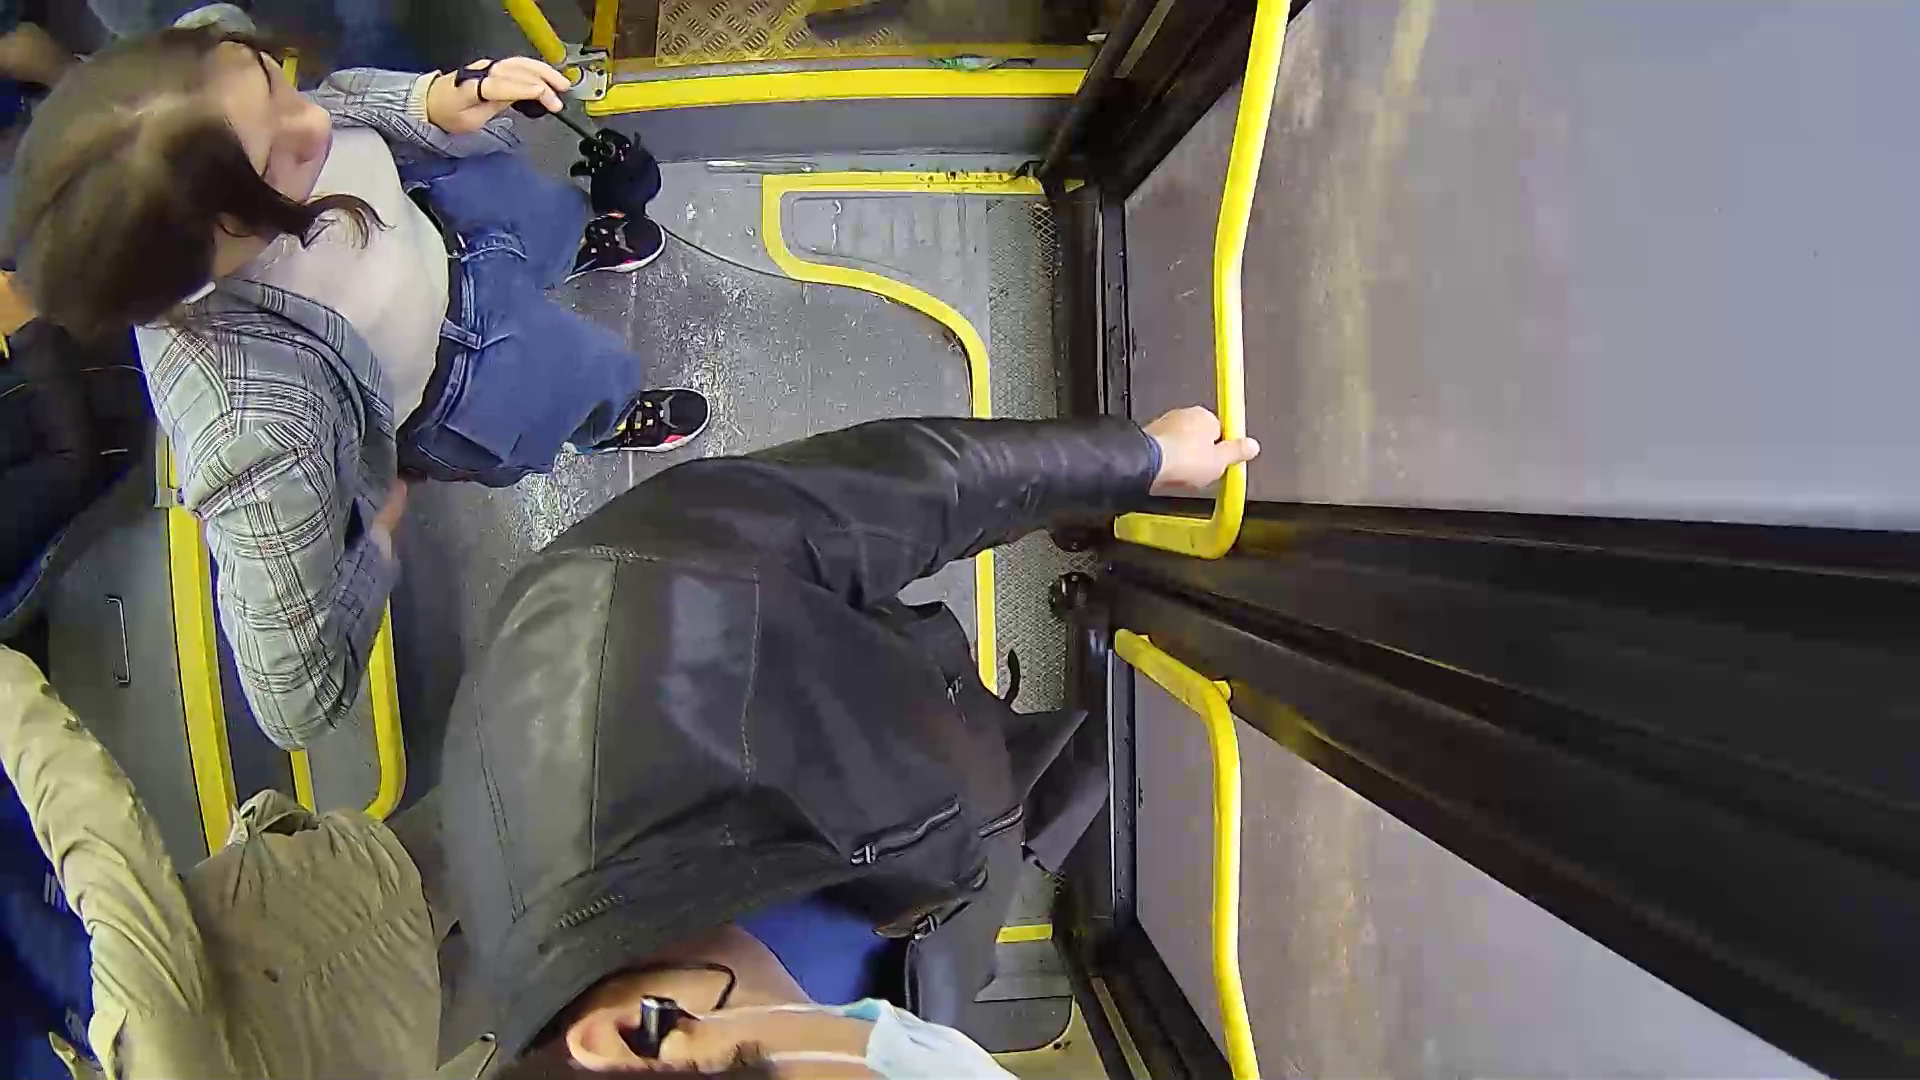person: (32, 36, 764, 513)
